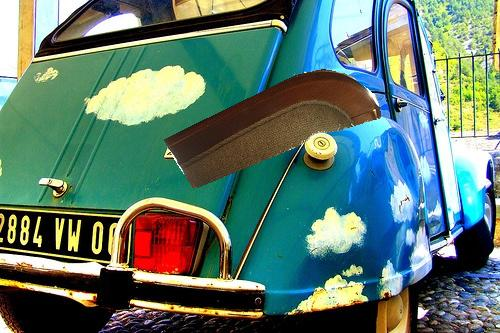tampered: (165, 70, 381, 188)
